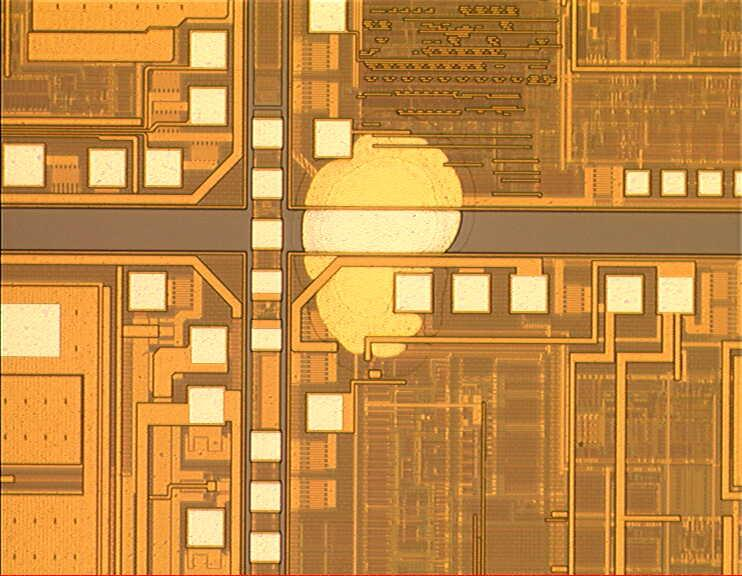BLOCK ETCH: (293, 108, 477, 382)
